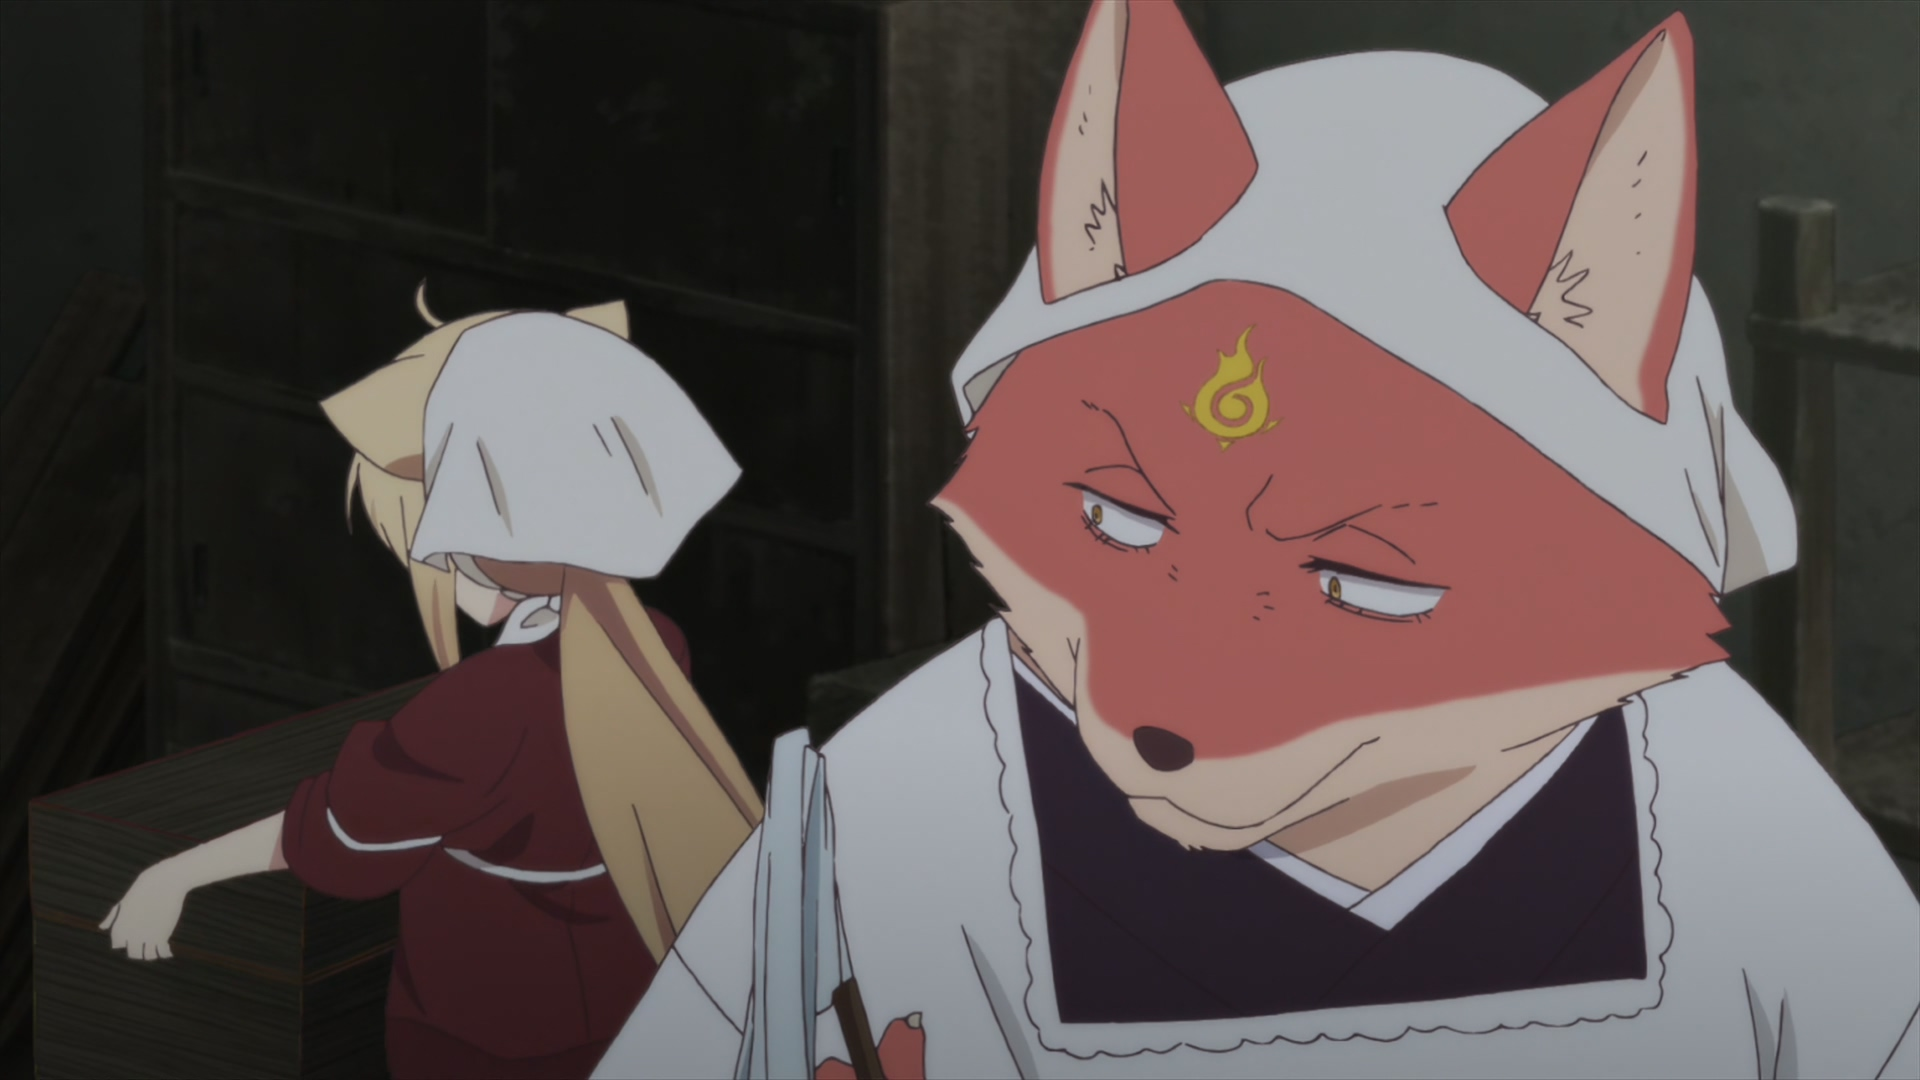柚: (98, 280, 764, 1080)
椿: (583, 1, 1920, 1080)
